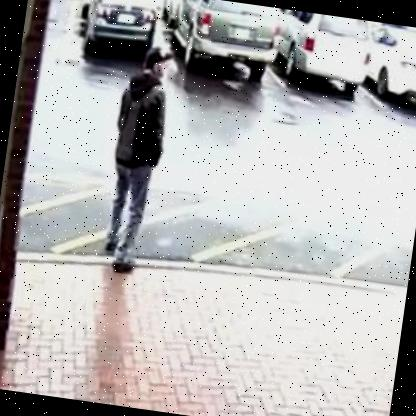car: (156, 0, 285, 92), (272, 9, 383, 108)
person: (88, 37, 187, 287)
